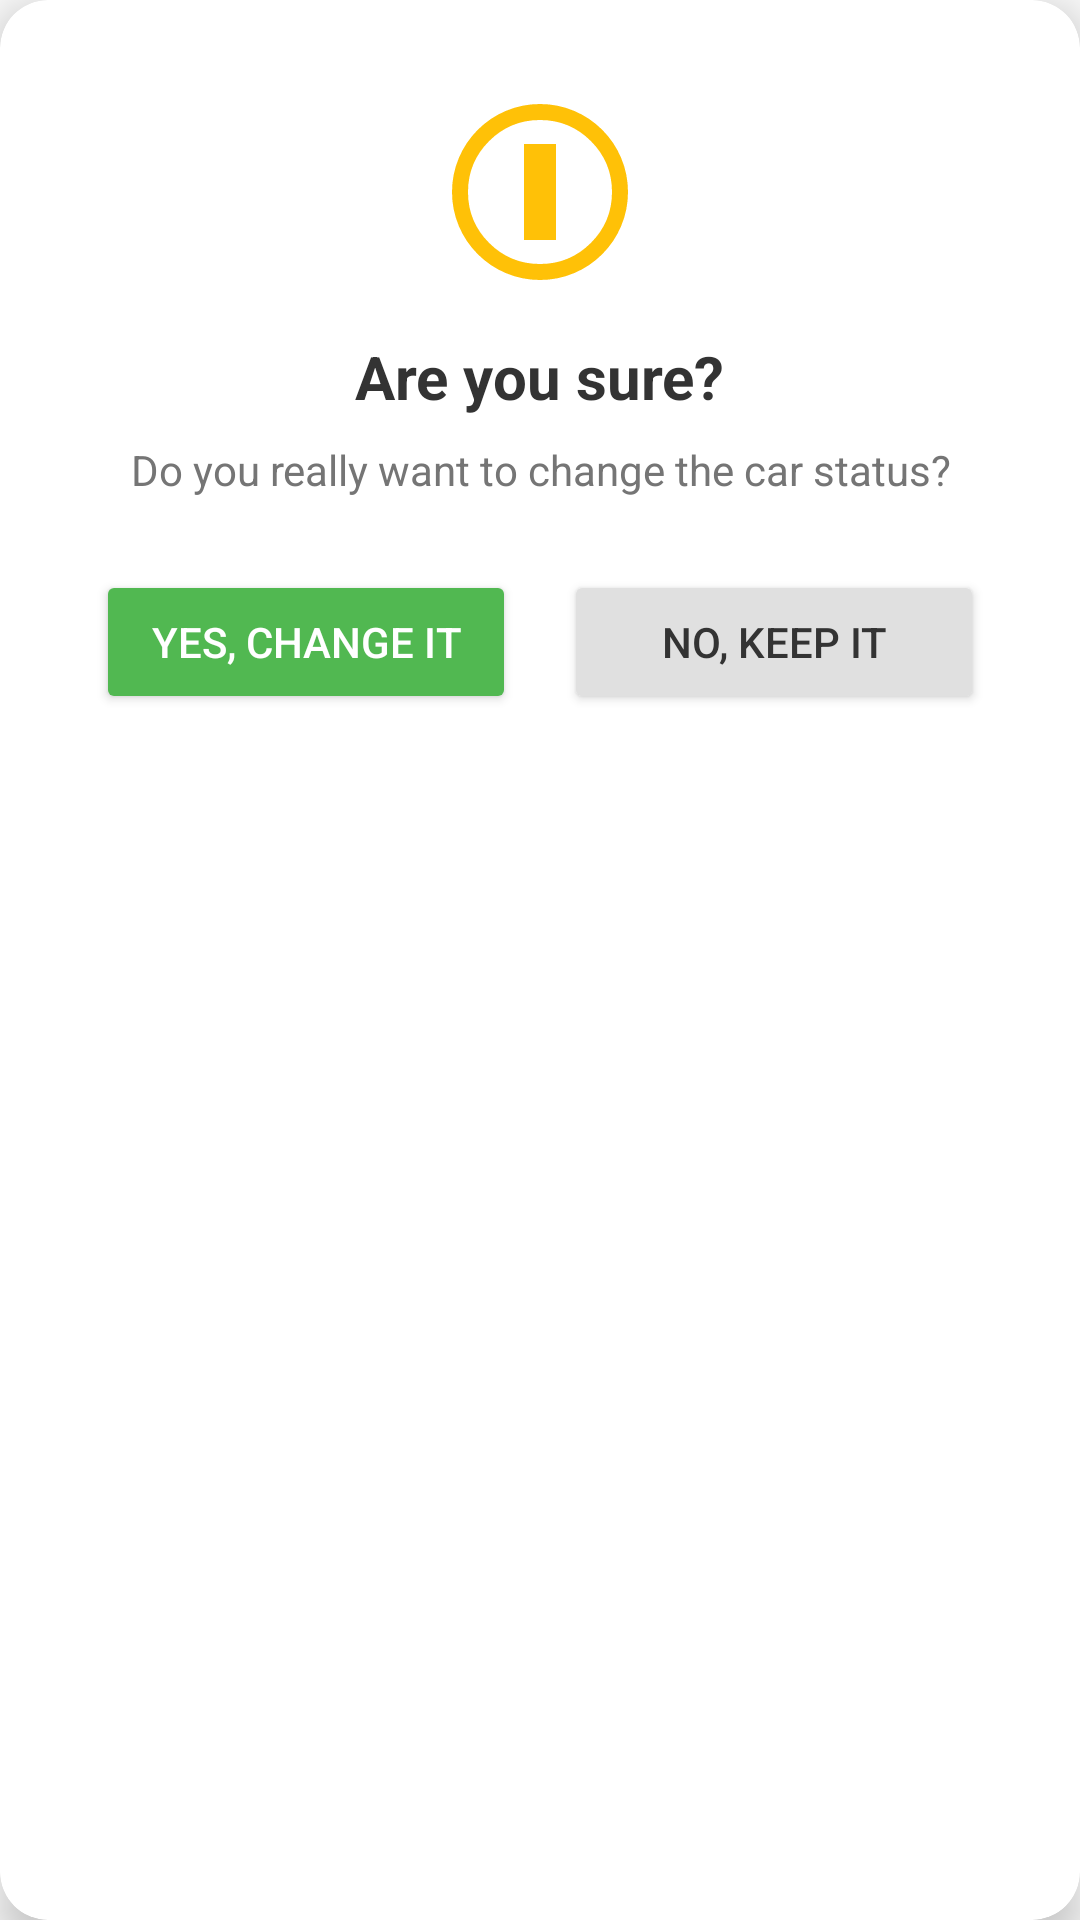

Icons on this 1080 x 1920 Android screen, each with the point to tap as point (x, y):
Warning icon indicating a status change is about to happen: point (540, 192)
